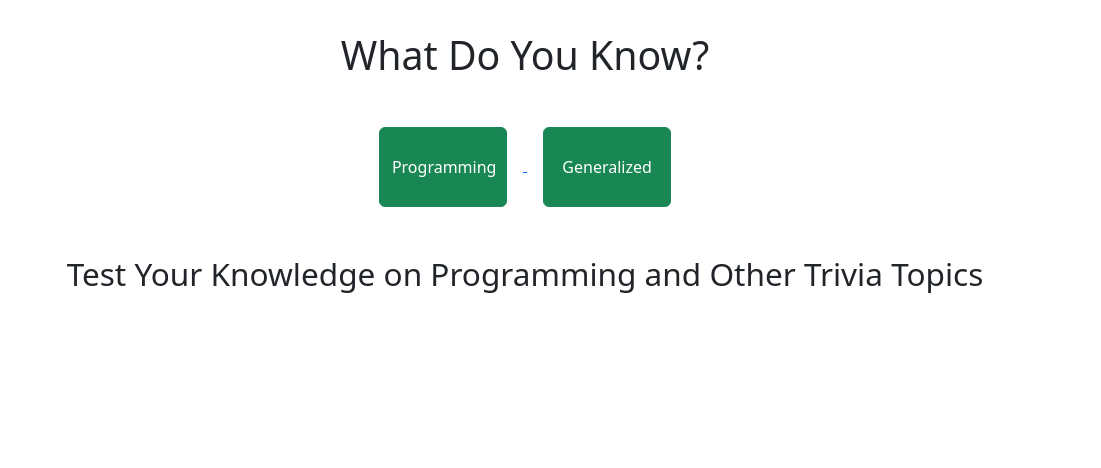
it: trivia selection page › should take the user to the form page when clicked
Click the button "Programming" at (443, 167), box [379,127,507,207]
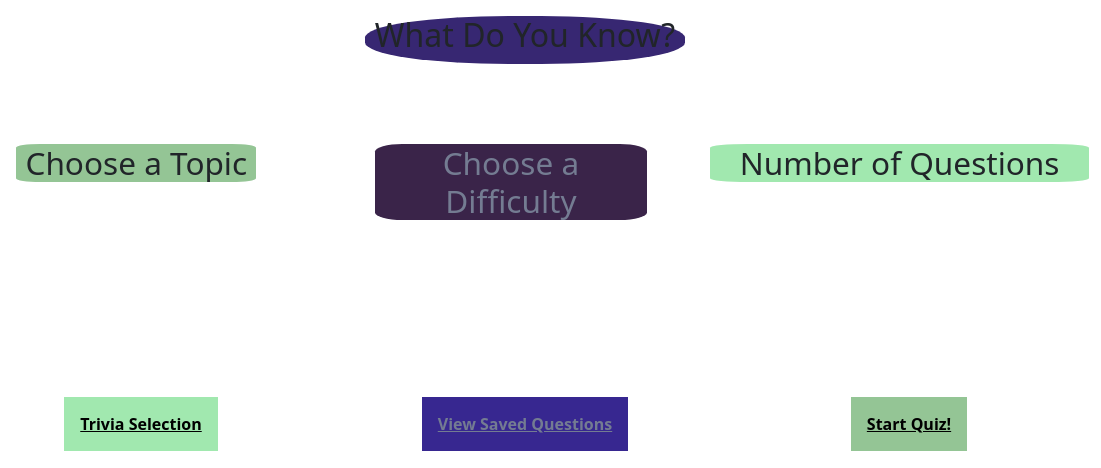
Expected: the heading "Choose a Topic" is shown, [16,144,256,182]
